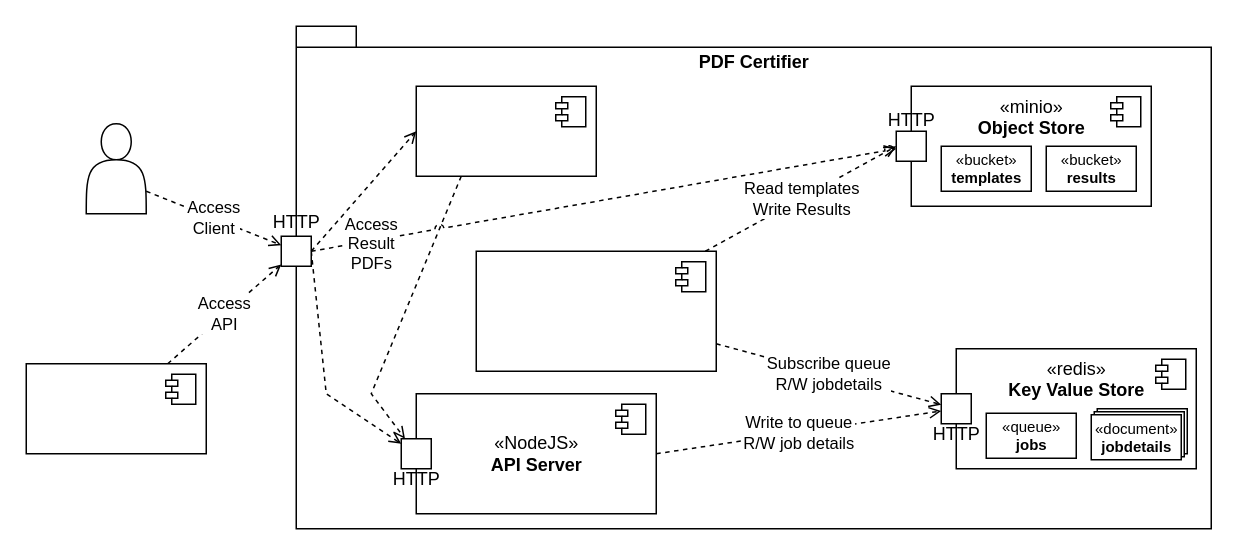
Some shapes in this 1238 by 555 pixel diagram are drawn without their labels. The shapes that lost their labels are listed below. From the top down, each one's centre as x and y in pixels, then its label:
At (x=505, y=130): "«html/js» Sample Client".
At (x=115, y=168): "User".
At (x=595, y=310): "«NodeJS» Renderer".
At (x=115, y=408): "3rd Party Client".
